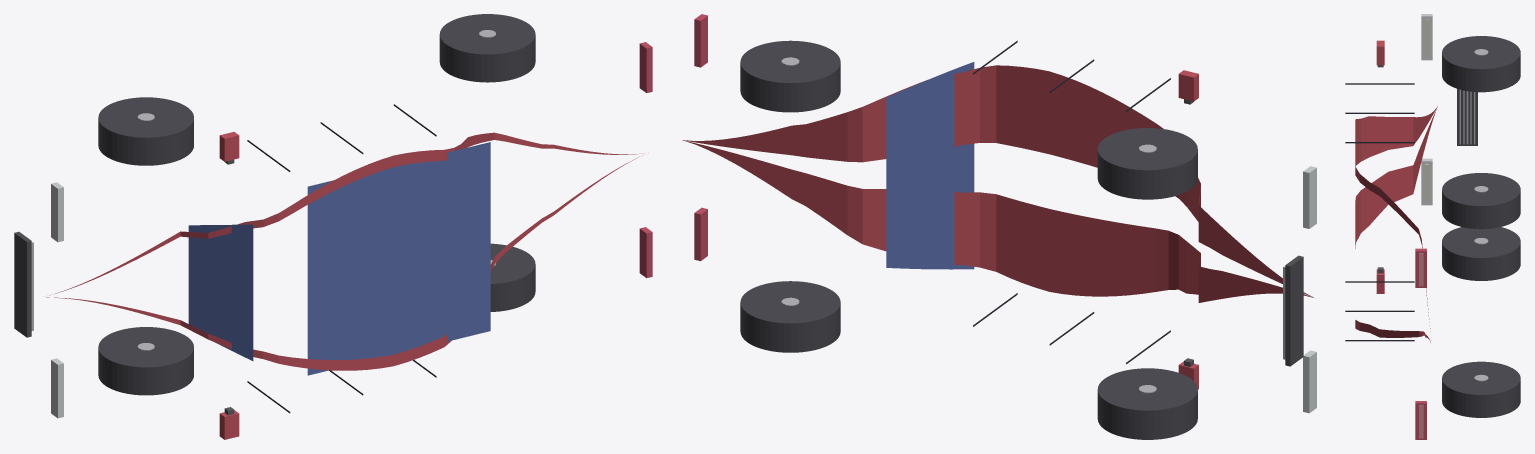
The picture shows the model from 3 angles, left to right: view 1: azimuth 30°, elevation 25°; view 2: azimuth 150°, elevation 25°; view 3: azimuth 270°, elevation 25°; orthographic projection. The views are drawn at different scales.
Visible parts, largest first — view 1: world; view 2: world; view 3: world.
Boxes of the visible parts, x1,y1,x2,y2 form: world: [14, 14, 652, 439]; world: [682, 14, 1316, 439]; world: [1345, 14, 1520, 439].
Size of the model in its own units: 5 by 2.36 by 1.52.
